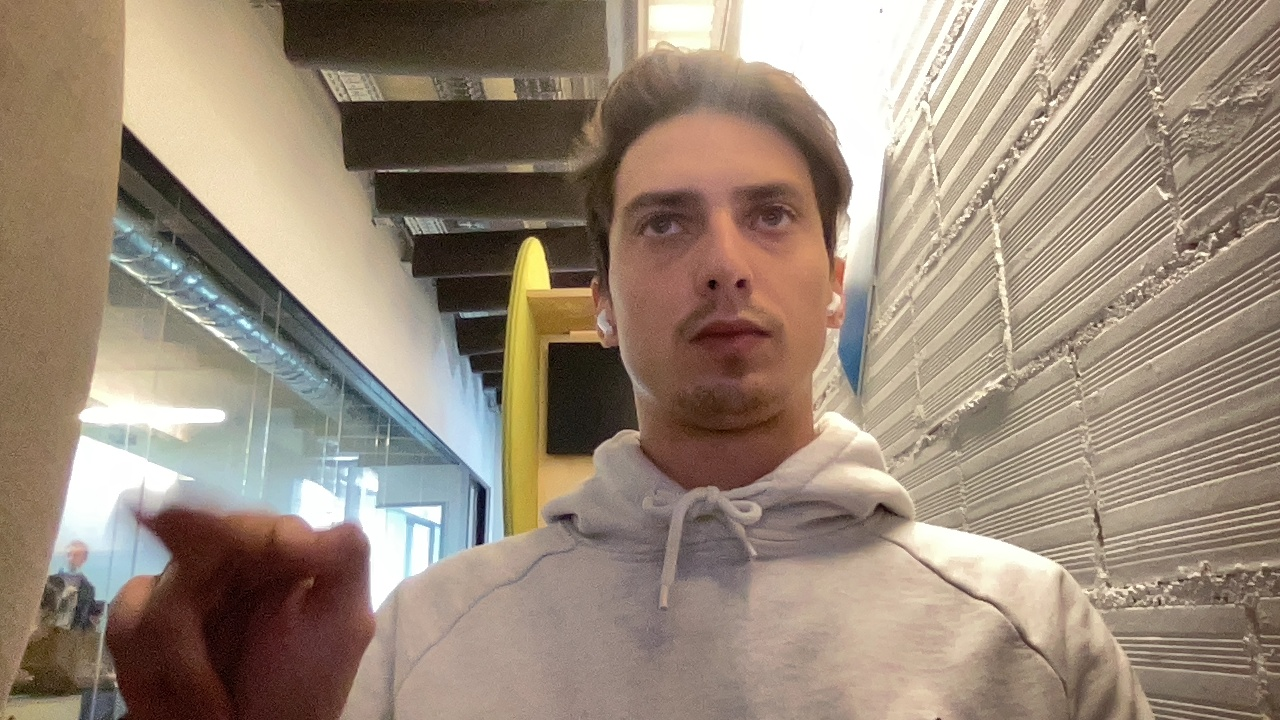no: (80, 464, 399, 717)
